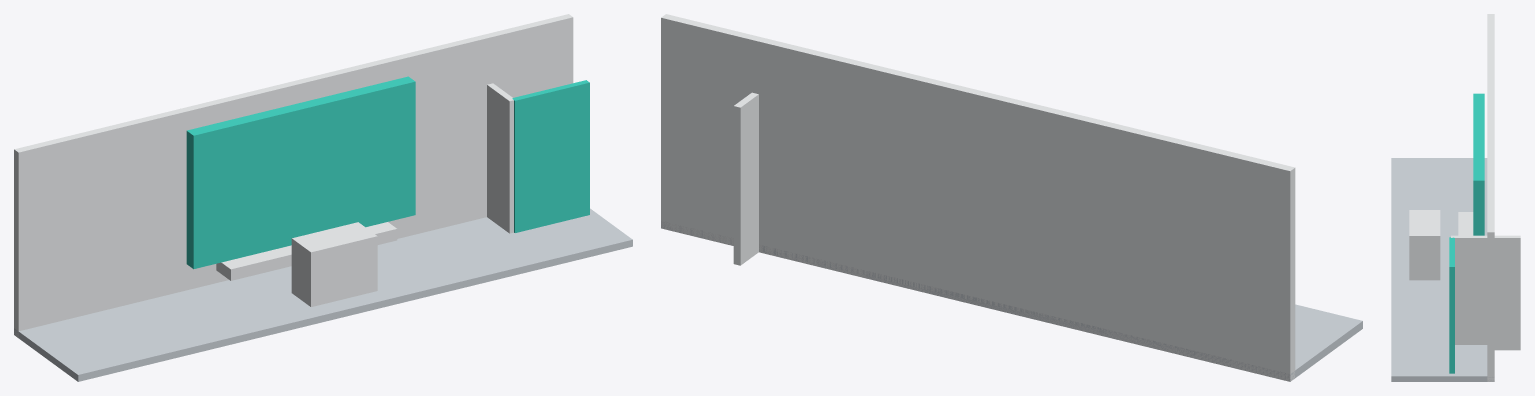
The picture shows the model from 3 angles, left to right: view 1: azimuth 30°, elevation 25°; view 2: azimuth 150°, elevation 25°; view 3: azimuth 270°, elevation 25°; orthographic projection. The views are drawn at different scales.
Parts seen in each view (by area): view 1: Exhibition Booth Concept; view 2: Exhibition Booth Concept; view 3: Exhibition Booth Concept.
Boxes of the visible parts, left/top/right/bottom form: Exhibition Booth Concept: left=14, top=14, right=632, bottom=381; Exhibition Booth Concept: left=661, top=14, right=1362, bottom=381; Exhibition Booth Concept: left=1391, top=14, right=1520, bottom=381.
Bounding box in the file's own units: 10 × 3.2 × 2.5.
